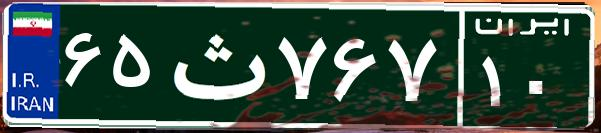0: (525, 38, 570, 115)
1: (475, 38, 525, 113)
5: (110, 28, 158, 105)
6: (330, 28, 385, 110), (57, 26, 110, 107)
7: (385, 28, 445, 110), (273, 28, 330, 110)
ث: (158, 15, 273, 115)
